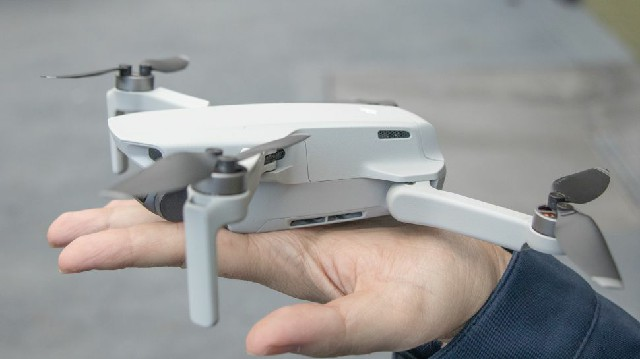maybay_khongnguoilai: (59, 56, 626, 308)
